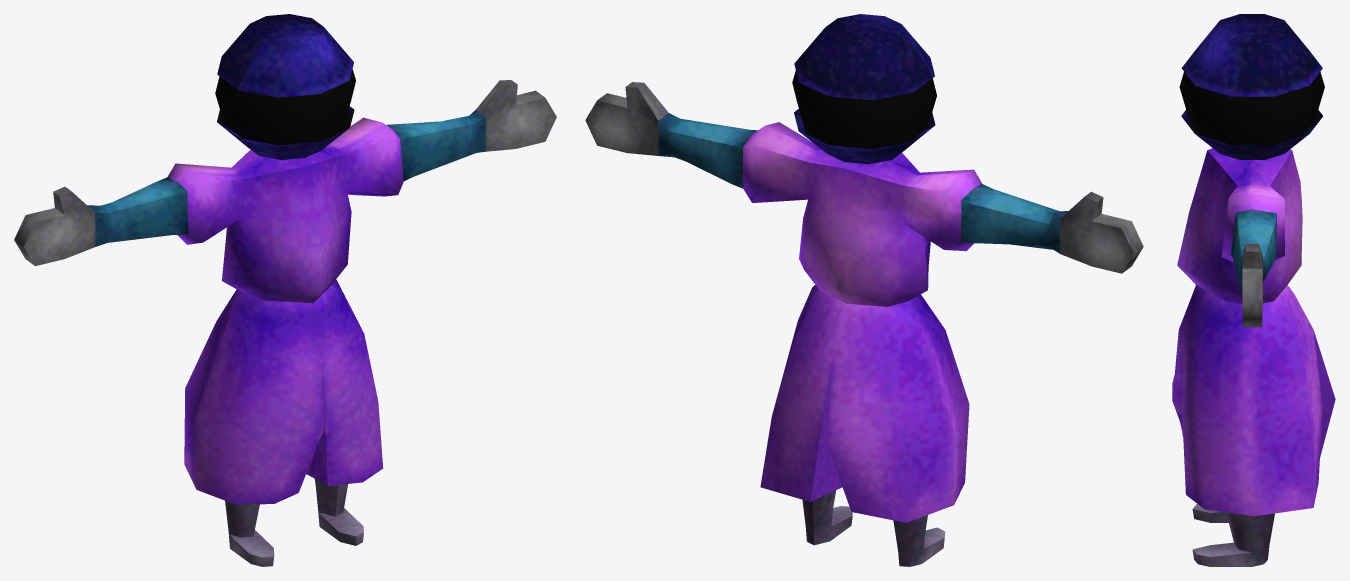
Rendered from Assassin.obj.
3 views of the same model, side by side, from view 1: azimuth 30°, elevation 25°; view 2: azimuth 150°, elevation 25°; view 3: azimuth 270°, elevation 25° (orthographic). The views are drawn at different scales.
Parts seen in each view (by area): view 1: Assasin_Sphere.005; view 2: Assasin_Sphere.005; view 3: Assasin_Sphere.005.
Part boxes in pixels (bbox=[...]): Assasin_Sphere.005: bbox=[14, 14, 556, 566]; Assasin_Sphere.005: bbox=[585, 14, 1143, 566]; Assasin_Sphere.005: bbox=[1172, 14, 1335, 566].
Bounding box in the file's own units: 13.12 × 11.99 × 3.45.
